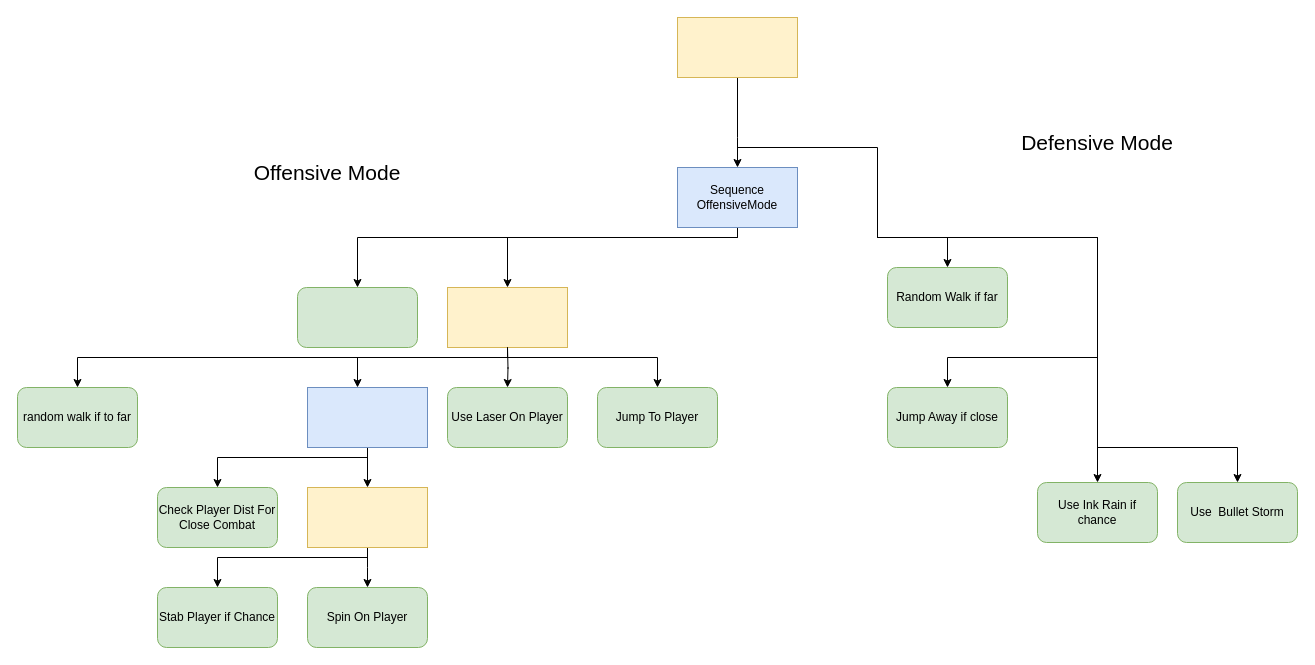
The diagram is 1315 pixels wide and 665 high, and some of its shapes have lost their labels. Here are the shapes that lost their labels. From the top down, the box of each, then its label:
(676, 16, 798, 78): Selector
(296, 286, 418, 348): Check Boss Health
(446, 286, 568, 348): Selector Node Offensive Moves
(306, 386, 428, 448): Sequence Node Offensive Close Combat
(306, 486, 428, 548): Selector Node Choose Offensive close combat
